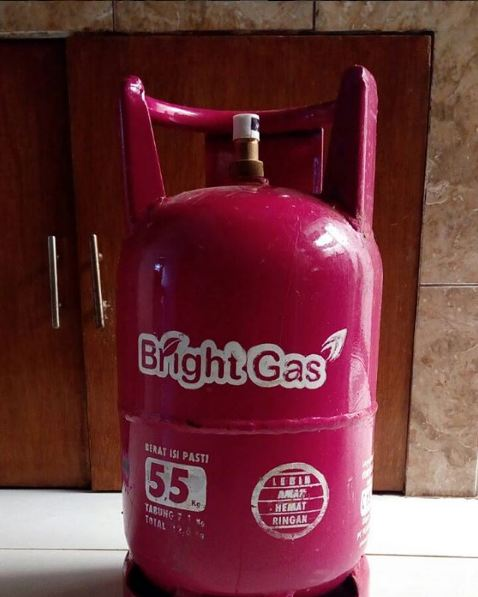bright_gas: (119, 66, 385, 597)
